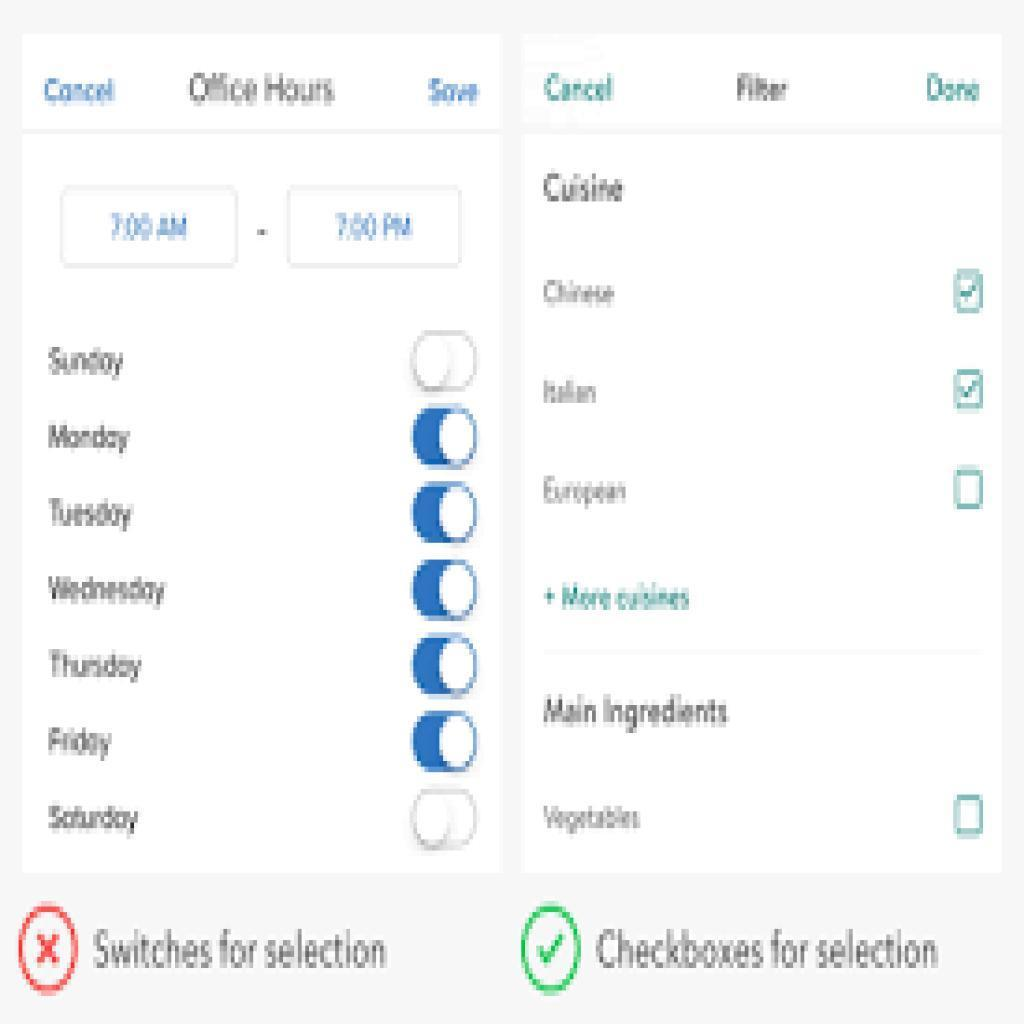checkbox: (954, 274, 986, 315), (955, 797, 984, 839), (955, 372, 986, 409), (952, 471, 981, 508)
label: (544, 566, 704, 628), (545, 700, 732, 742), (45, 571, 171, 616), (537, 167, 636, 218), (537, 801, 650, 843), (50, 649, 154, 691), (540, 472, 640, 514), (45, 801, 147, 839), (540, 272, 625, 317), (48, 496, 142, 535), (41, 719, 117, 767), (46, 343, 132, 385), (49, 419, 135, 461), (539, 371, 604, 410)
switch: (409, 788, 482, 853), (412, 484, 485, 543), (413, 407, 481, 469), (412, 332, 480, 391), (413, 713, 481, 772), (416, 635, 477, 700), (414, 563, 482, 620)
